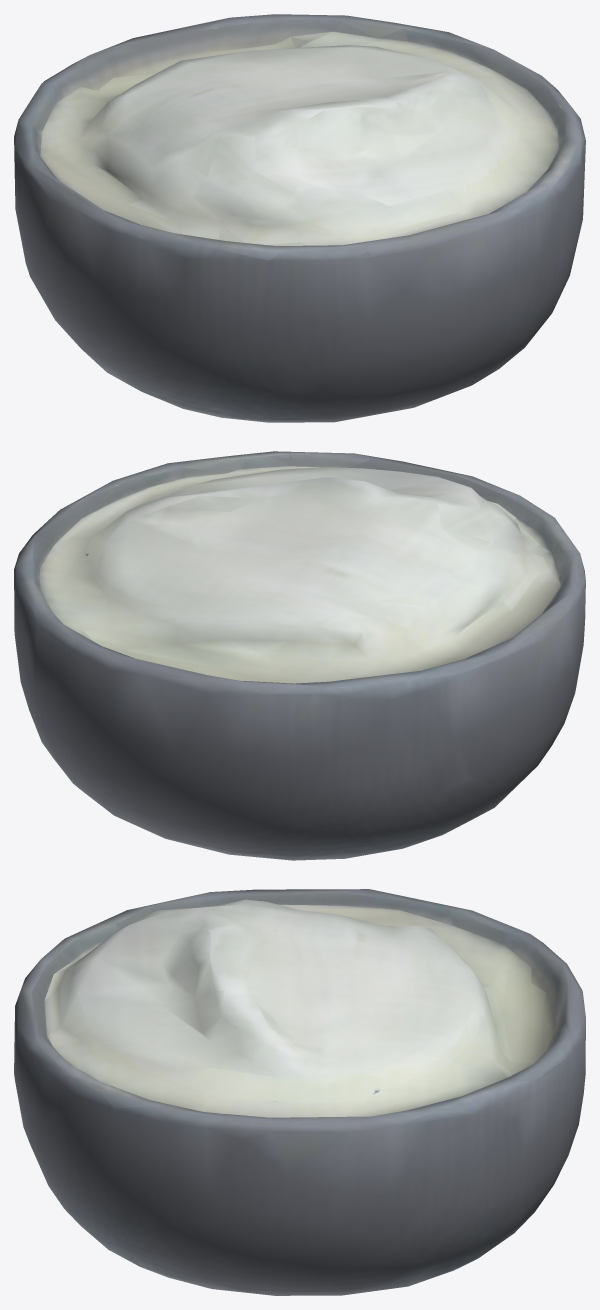
The model's file is Crème sucrée au Mascarpone.glb.
3 renders of one model, top to bottom at view 1: azimuth 30°, elevation 25°; view 2: azimuth 150°, elevation 25°; view 3: azimuth 270°, elevation 25°, orthographic.
Parts seen in each view (by area): view 1: high_poly; view 2: high_poly; view 3: high_poly.
Boxes of the visible parts, box(x1,y1,x2,y2) form: high_poly: box(14, 14, 585, 422); high_poly: box(14, 451, 585, 860); high_poly: box(14, 889, 585, 1295).
Size of the model in its own units: 0.9993 by 0.5168 by 0.9988.
Materials: 1 (1 with a texture image).
